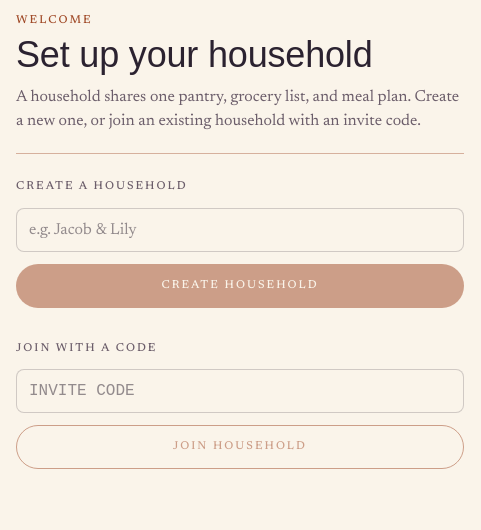
Test: HouseholdSetup › shows the error and does not route when a mutation fails
Type "NOPE2345" into the field labelled "Invite code".
click(240, 391); type("NOPE2345")  # box [16,369,464,413]
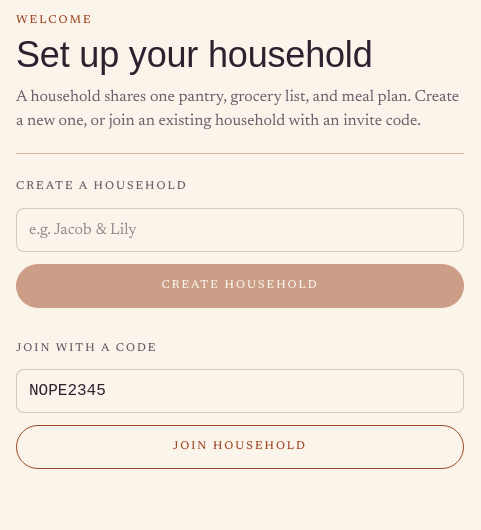
Click the button "Join household".
click(240, 447)  # box [16,425,464,469]
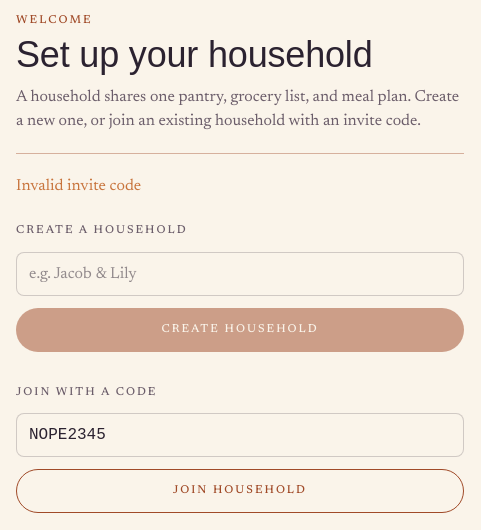
Now the message reads "Invalid invite code", box [16,178,141,194]
